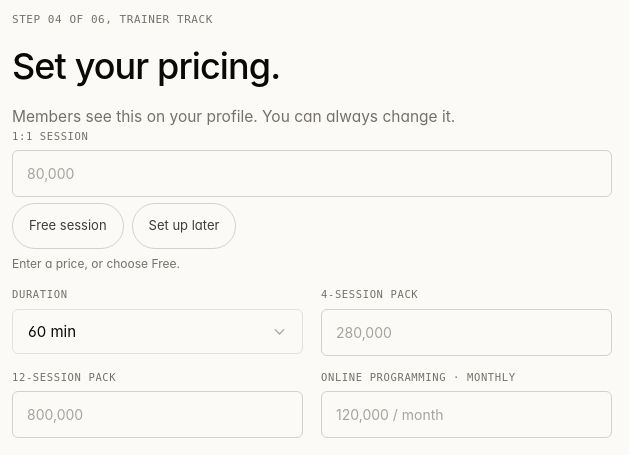
trainer pricing step › names the 1:1 price field and offers Free and Set up later
This screenshot has width=629, height=455.
Click the switch labelled "Set up later".
click(184, 226)  # box [132,203,236,249]
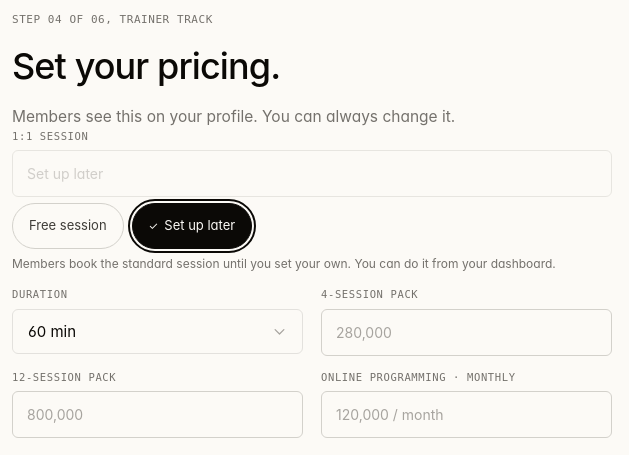
Expected: the field labelled "1:1 session" is disabled, [12,150,612,197]
Expected: the text "Members book the standard session until you set your own." is shown, [12,256,556,271]
